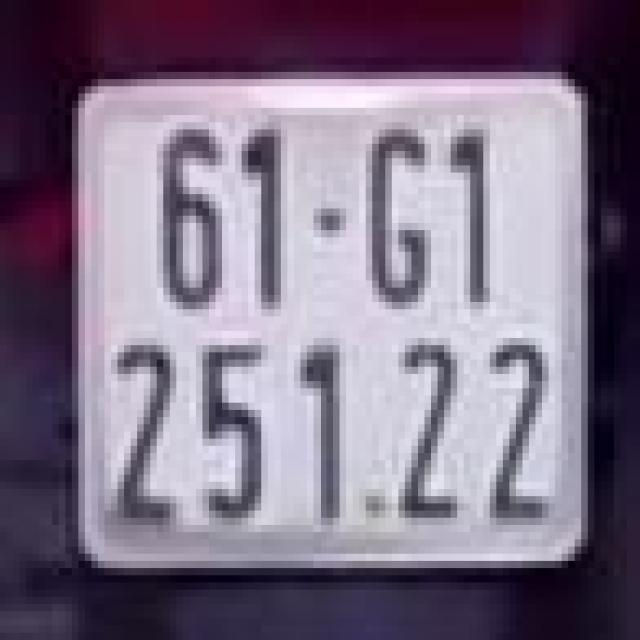1: (290, 327, 362, 529), (441, 119, 506, 312), (242, 122, 300, 316)
2: (382, 320, 474, 529), (476, 327, 562, 536), (111, 327, 189, 529)
5: (196, 324, 281, 539)
6: (140, 108, 245, 323)
G: (356, 115, 434, 316)
